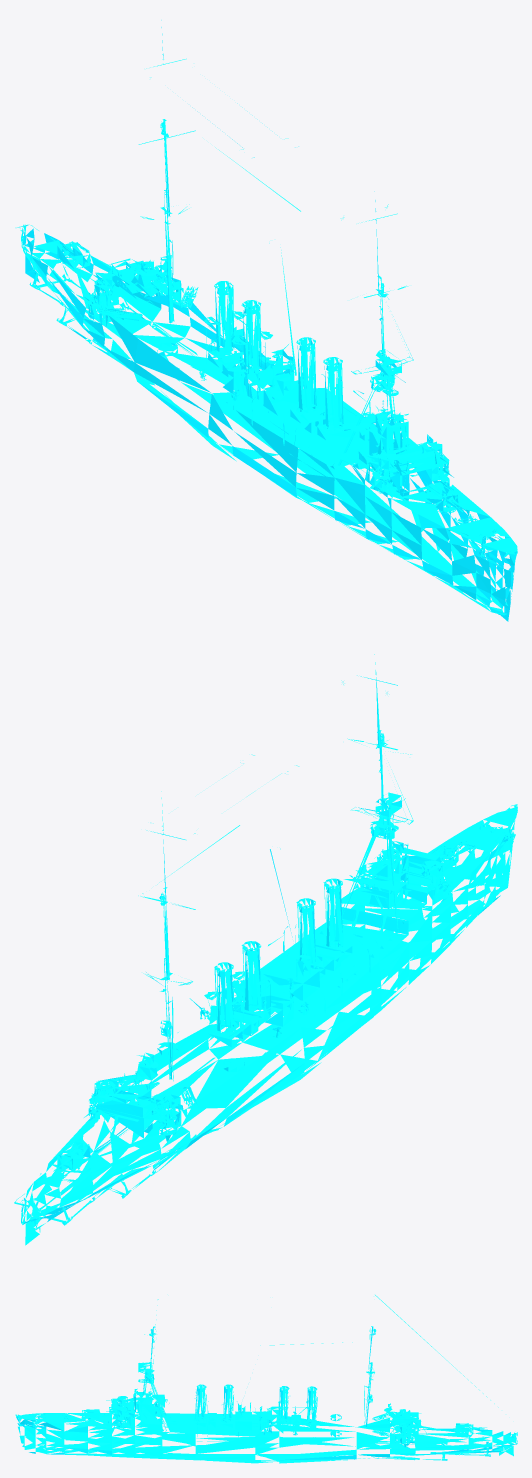
The model's file is Marblehead.glb.
3 views of the same model, one above another, from view 1: azimuth 30°, elevation 25°; view 2: azimuth 150°, elevation 25°; view 3: azimuth 270°, elevation 25° (orthographic). The views are drawn at different scales.
Bounding box in the file's own units: 1.36 × 4.51 × 11.33.
